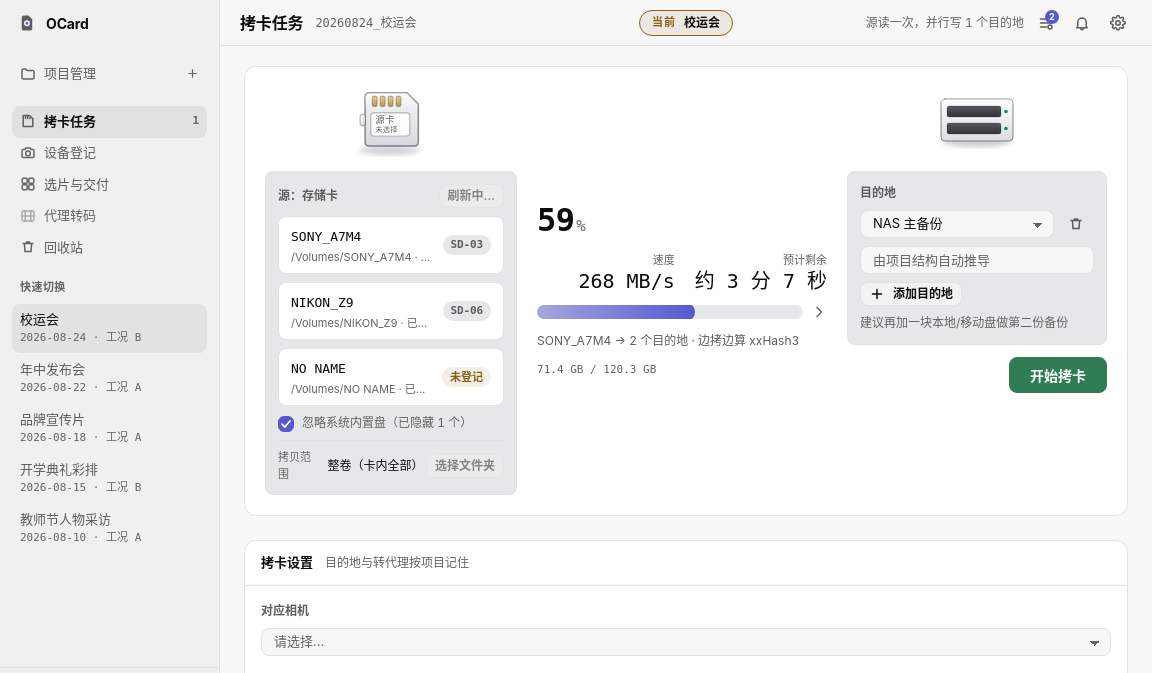
Test: E2E 锚点 › 任务中心锚点
Expected: the text "2" is shown, [1045, 10, 1059, 24]
Click the button with test id "task-center-toggle" at (1046, 22), box [1032, 8, 1060, 36]
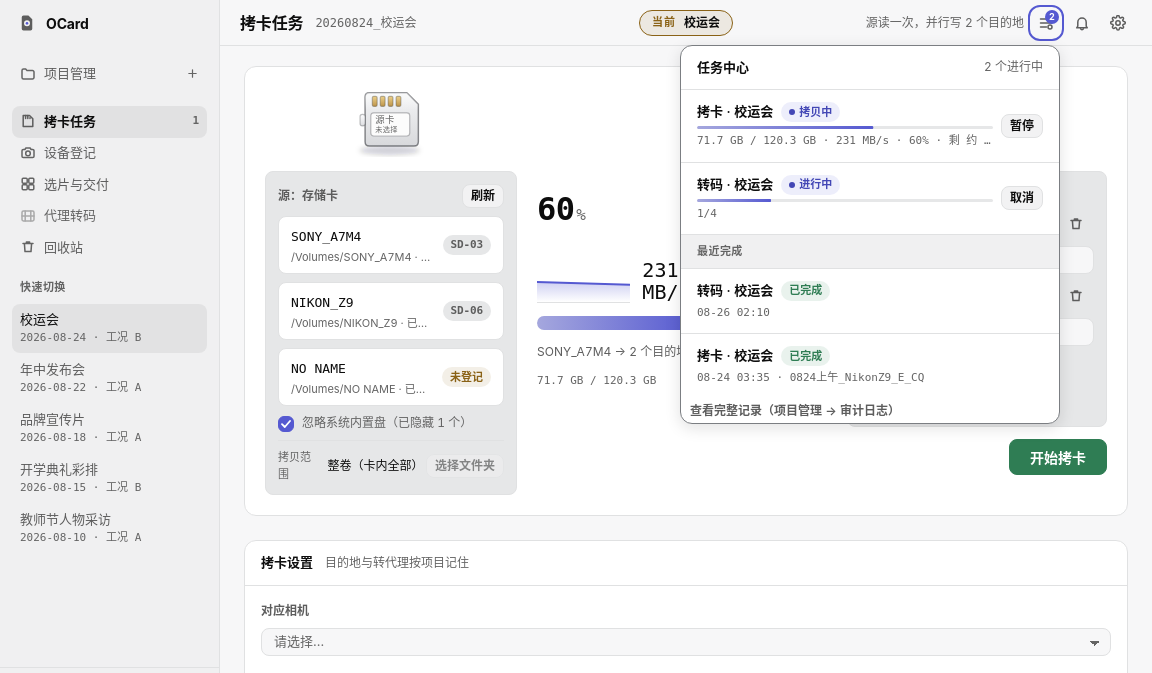
Expected: the element with test id "task-center-panel" is shown, [680, 44, 1060, 424]
Expected: the 1st element with test id "task-item" is shown, [681, 90, 1059, 162]
Expected: the button with test id "task-pause" is shown, [1001, 114, 1043, 138]
